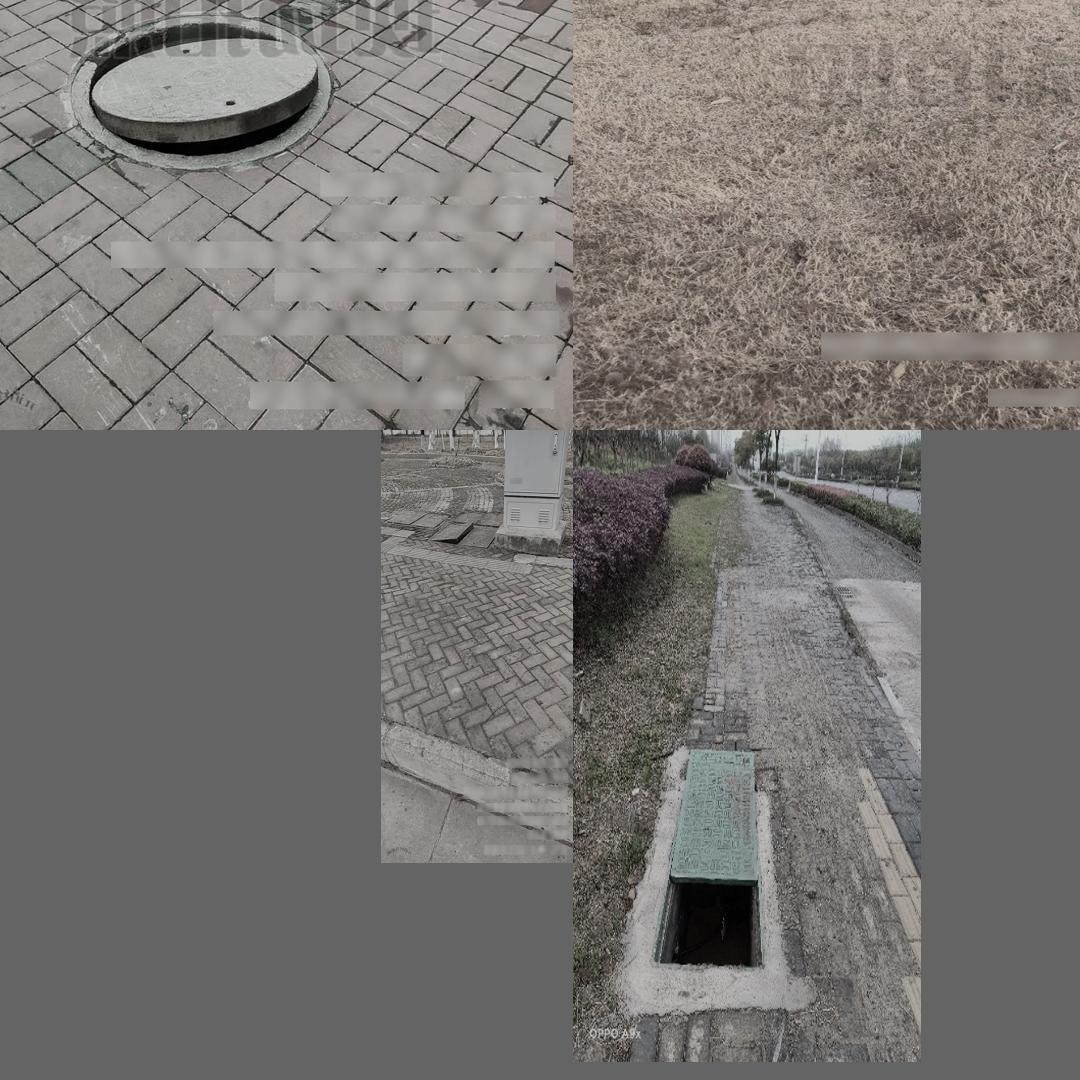good: (381, 509, 449, 533)
uncovered: (68, 12, 331, 171), (663, 732, 769, 975), (428, 521, 499, 548)
